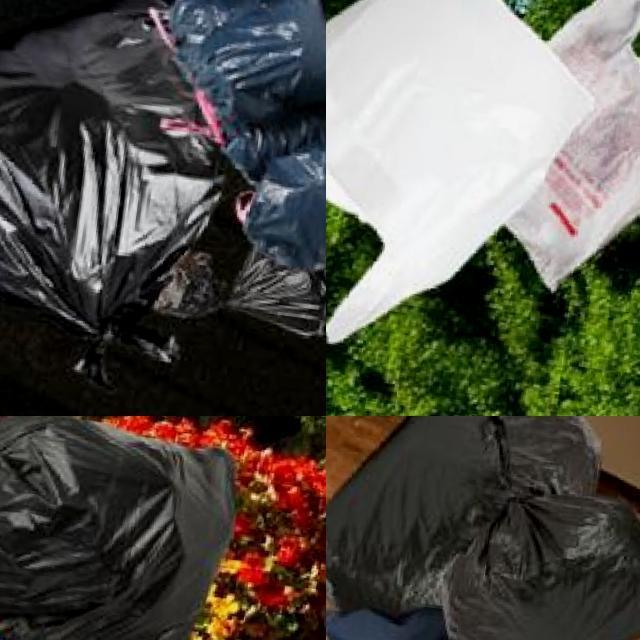waste: (326, 0, 609, 368), (326, 416, 611, 614), (0, 416, 243, 640), (477, 0, 640, 310), (429, 469, 640, 640), (158, 0, 326, 125), (233, 92, 326, 278)
